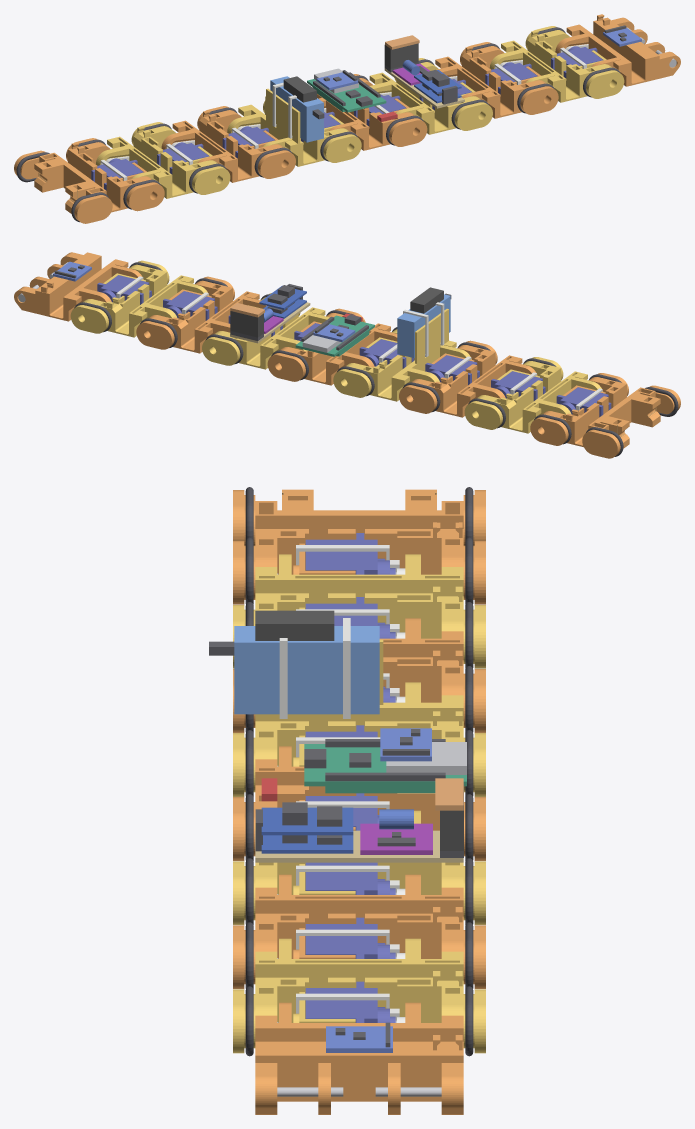
The model's file is assembled_flat.glb.
3 renders of one model, top to bottom at view 1: azimuth 30°, elevation 25°; view 2: azimuth 150°, elevation 25°; view 3: azimuth 270°, elevation 25°, orthographic. The views are drawn at different scales.
Parts seen in each view (by area): view 1: s0_tail_0, s2_link_21, s7_link_88, s1_link_12, s6_link_79, s8_head_97, s3_link_s3_battery_30, s5_link_s5_power_58, s4_link_s4_esp32_43, s3_battery_39, s4_esp32_pcb_52, s5_servo_plugs_77 (+13 smaller); view 2: s0_tail_0, s3_link_s3_battery_30, s7_link_88, s1_link_12, s2_link_21, s6_link_79, s8_head_97, s4_link_s4_esp32_43, s5_link_s5_power_58, s3_battery_39, s0_servo_1, s6_servo_83 (+15 smaller); view 3: s8_head_97, s0_tail_0, s7_link_88, s6_link_79, s1_link_12, s3_battery_39, s3_link_s3_battery_30, s2_link_21, s4_link_s4_esp32_43, s5_link_s5_power_58, s4_esp32_pcb_52, s4_esp32_parts_54 (+19 smaller).
Part boxes in pixels (<box>): s0_tail_0: <box>14,138,164,223</box>; s2_link_21: <box>161,106,295,182</box>; s7_link_88: <box>489,26,624,102</box>; s1_link_12: <box>96,122,230,198</box>; s6_link_79: <box>435,42,558,118</box>; s8_head_97: <box>555,14,680,86</box>; s3_link_s3_battery_30: <box>227,88,361,166</box>; s5_link_s5_power_58: <box>369,58,492,134</box>; s4_link_s4_esp32_43: <box>317,74,427,150</box>; s3_battery_39: <box>270,76,323,142</box>; s4_esp32_pcb_52: <box>307,79,386,112</box>; s5_servo_plugs_77: <box>384,43,418,68</box>; s0_tail_0: <box>530,373,680,458</box>; s3_link_s3_battery_30: <box>333,308,471,401</box>; s7_link_88: <box>70,260,209,337</box>; s1_link_12: <box>464,357,603,433</box>; s2_link_21: <box>399,340,537,417</box>; s6_link_79: <box>136,276,266,353</box>; s8_head_97: <box>14,252,143,321</box>; s4_link_s4_esp32_43: <box>267,308,397,385</box>; s5_link_s5_power_58: <box>202,293,329,369</box>; s3_battery_39: <box>397,294,450,358</box>; s0_servo_1: <box>556,387,611,417</box>; s6_servo_83: <box>163,291,217,320</box>; s8_head_97: <box>255,1002,463,1114</box>; s0_tail_0: <box>233,489,485,604</box>; s7_link_88: <box>233,938,485,1053</box>; s6_link_79: <box>233,874,485,988</box>; s1_link_12: <box>233,554,485,668</box>; s3_battery_39: <box>234,626,379,714</box>; s3_link_s3_battery_30: <box>233,639,485,796</box>; s2_link_21: <box>233,618,485,732</box>; s4_link_s4_esp32_43: <box>233,746,485,860</box>; s5_link_s5_power_58: <box>233,810,485,924</box>; s4_esp32_pcb_52: <box>304,744,466,793</box>; s4_esp32_parts_54: <box>304,739,445,781</box>.
Bounding box in the file's own units: 0.4465 × 0.051 × 0.0876.
